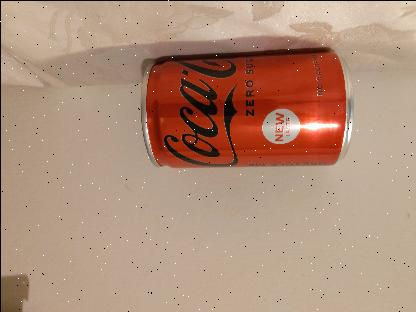Can: (139, 46, 353, 168)
